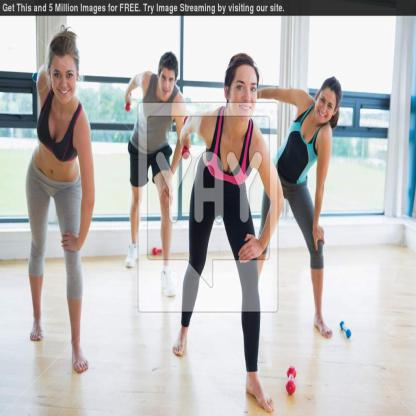face: (230, 66, 258, 121), (51, 56, 77, 106), (316, 88, 336, 124), (160, 69, 176, 101)
